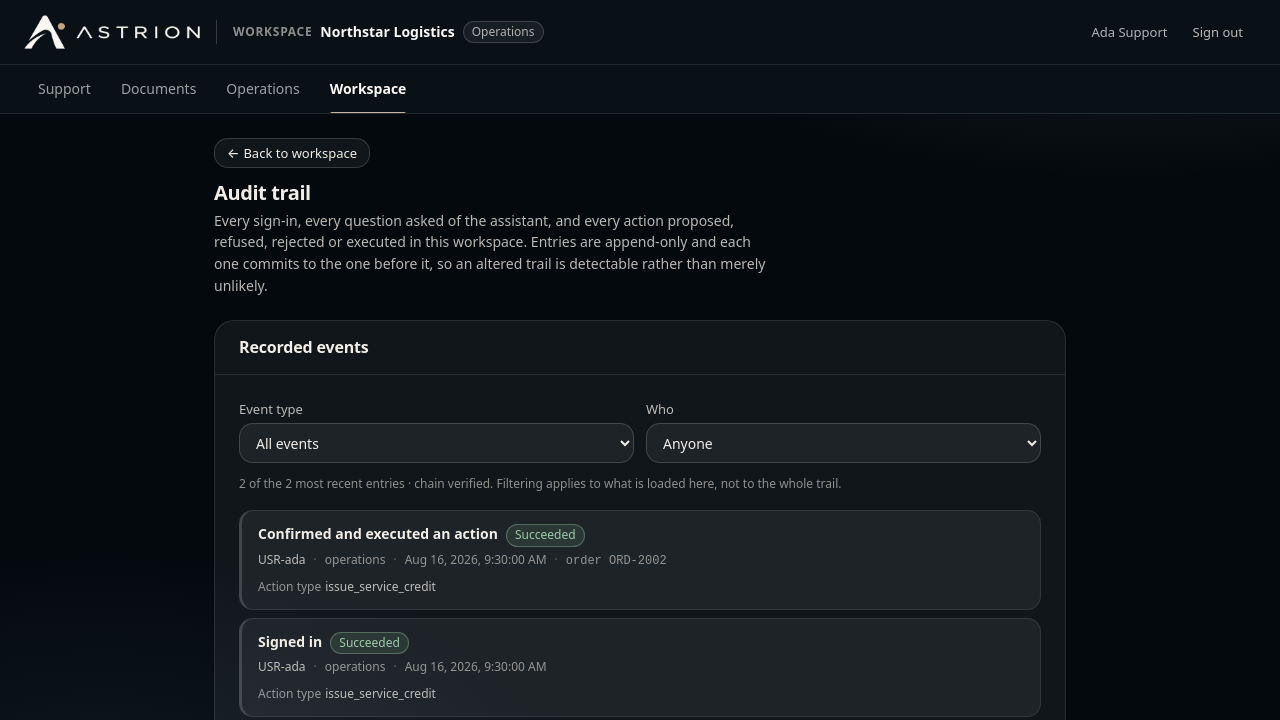
Test: the audit trail › filters by event type without claiming to search the whole trail
Expected: the text "Confirmed and executed an action" is shown, [258,523,498,545]
Expected: the text "Signed in" is shown, [258,631,322,652]
Select "Actions" in the dropdown labelled "Event type" at (436, 443), box [239,423,634,463]
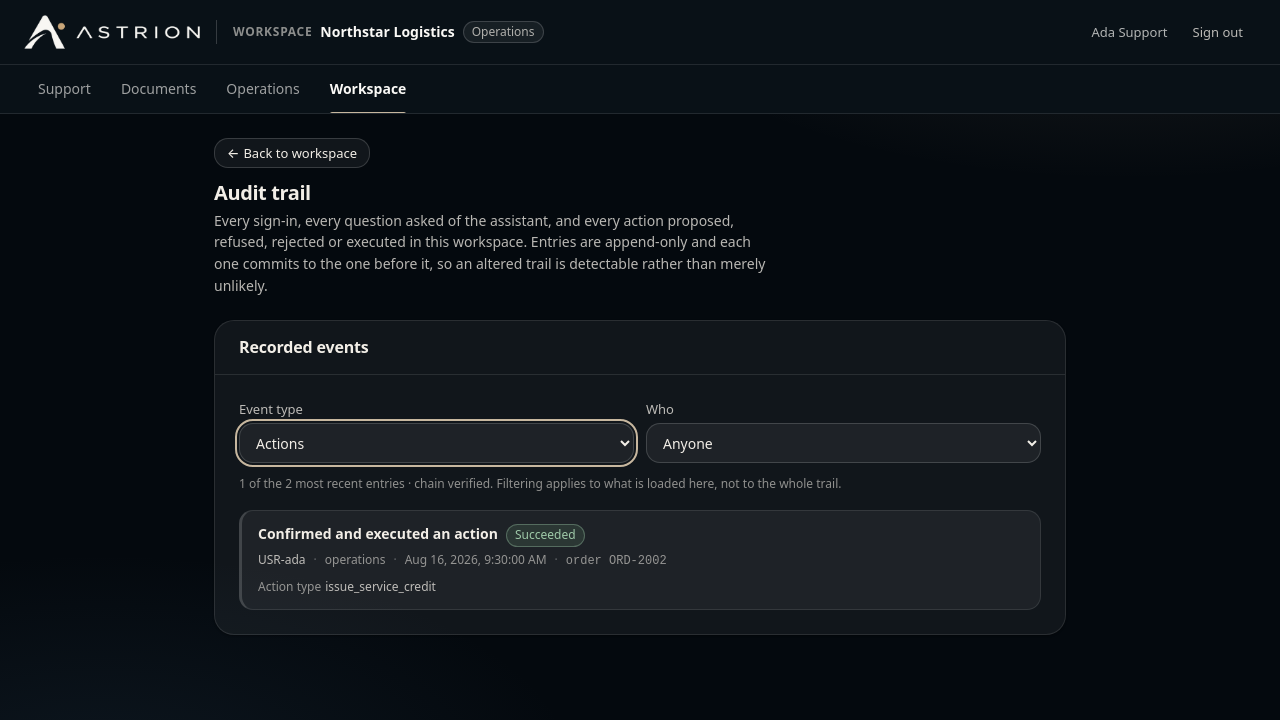
Expected: the text "Confirmed and executed an action" is shown, [258,523,498,545]
Result: the text "Signed in" is gone
